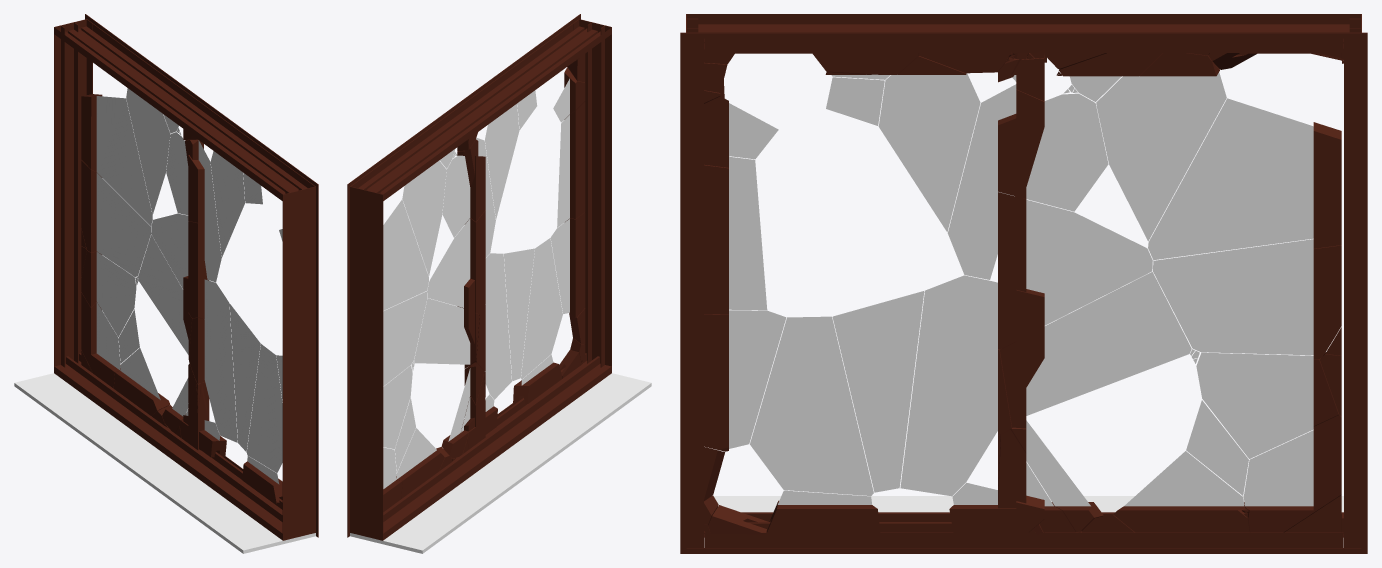
The model's file is window_abandoned.glb.
3 renders of one model, left to right at view 1: azimuth 30°, elevation 25°; view 2: azimuth 150°, elevation 25°; view 3: azimuth 270°, elevation 25°, orthographic. The views are drawn at different scales.
Parts seen in each view (by area): view 1: window_abandoned; view 2: window_abandoned; view 3: window_abandoned.
Part boxes in pixels (x1,y1,x2,y2): window_abandoned: (14, 14, 318, 553); window_abandoned: (347, 14, 651, 553); window_abandoned: (680, 14, 1367, 553).
Bounding box in the file's own units: 0.4984 × 2.29 × 2.74.
